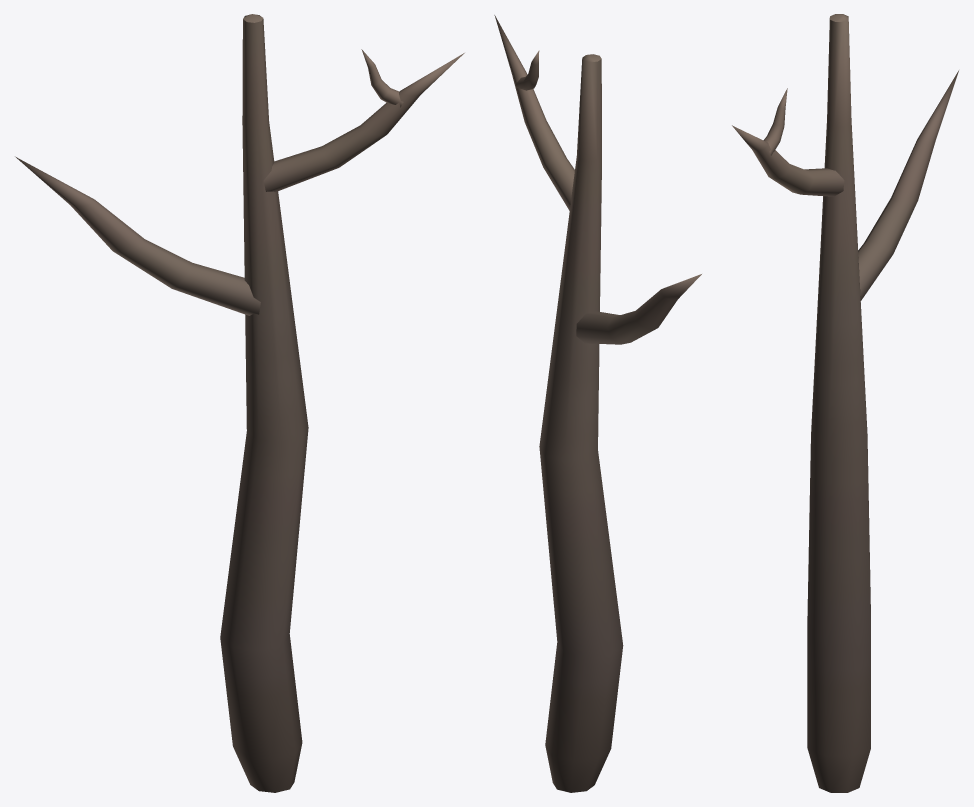
Rendered from dead_tree_b.glb.
3 renders of one model, left to right at view 1: azimuth 30°, elevation 25°; view 2: azimuth 150°, elevation 25°; view 3: azimuth 270°, elevation 25°, orthographic. The views are drawn at different scales.
Parts seen in each view (by area): view 1: tree_dead_large; view 2: tree_dead_large; view 3: tree_dead_large.
Boxes of the visible parts, x1,y1,x2,y2 form: tree_dead_large: (15,14,464,792); tree_dead_large: (494,15,701,792); tree_dead_large: (732,14,958,792).
Size of the model in its own units: 2.3 by 5.07 by 1.38.
Materials: 1 (1 with a texture image).
